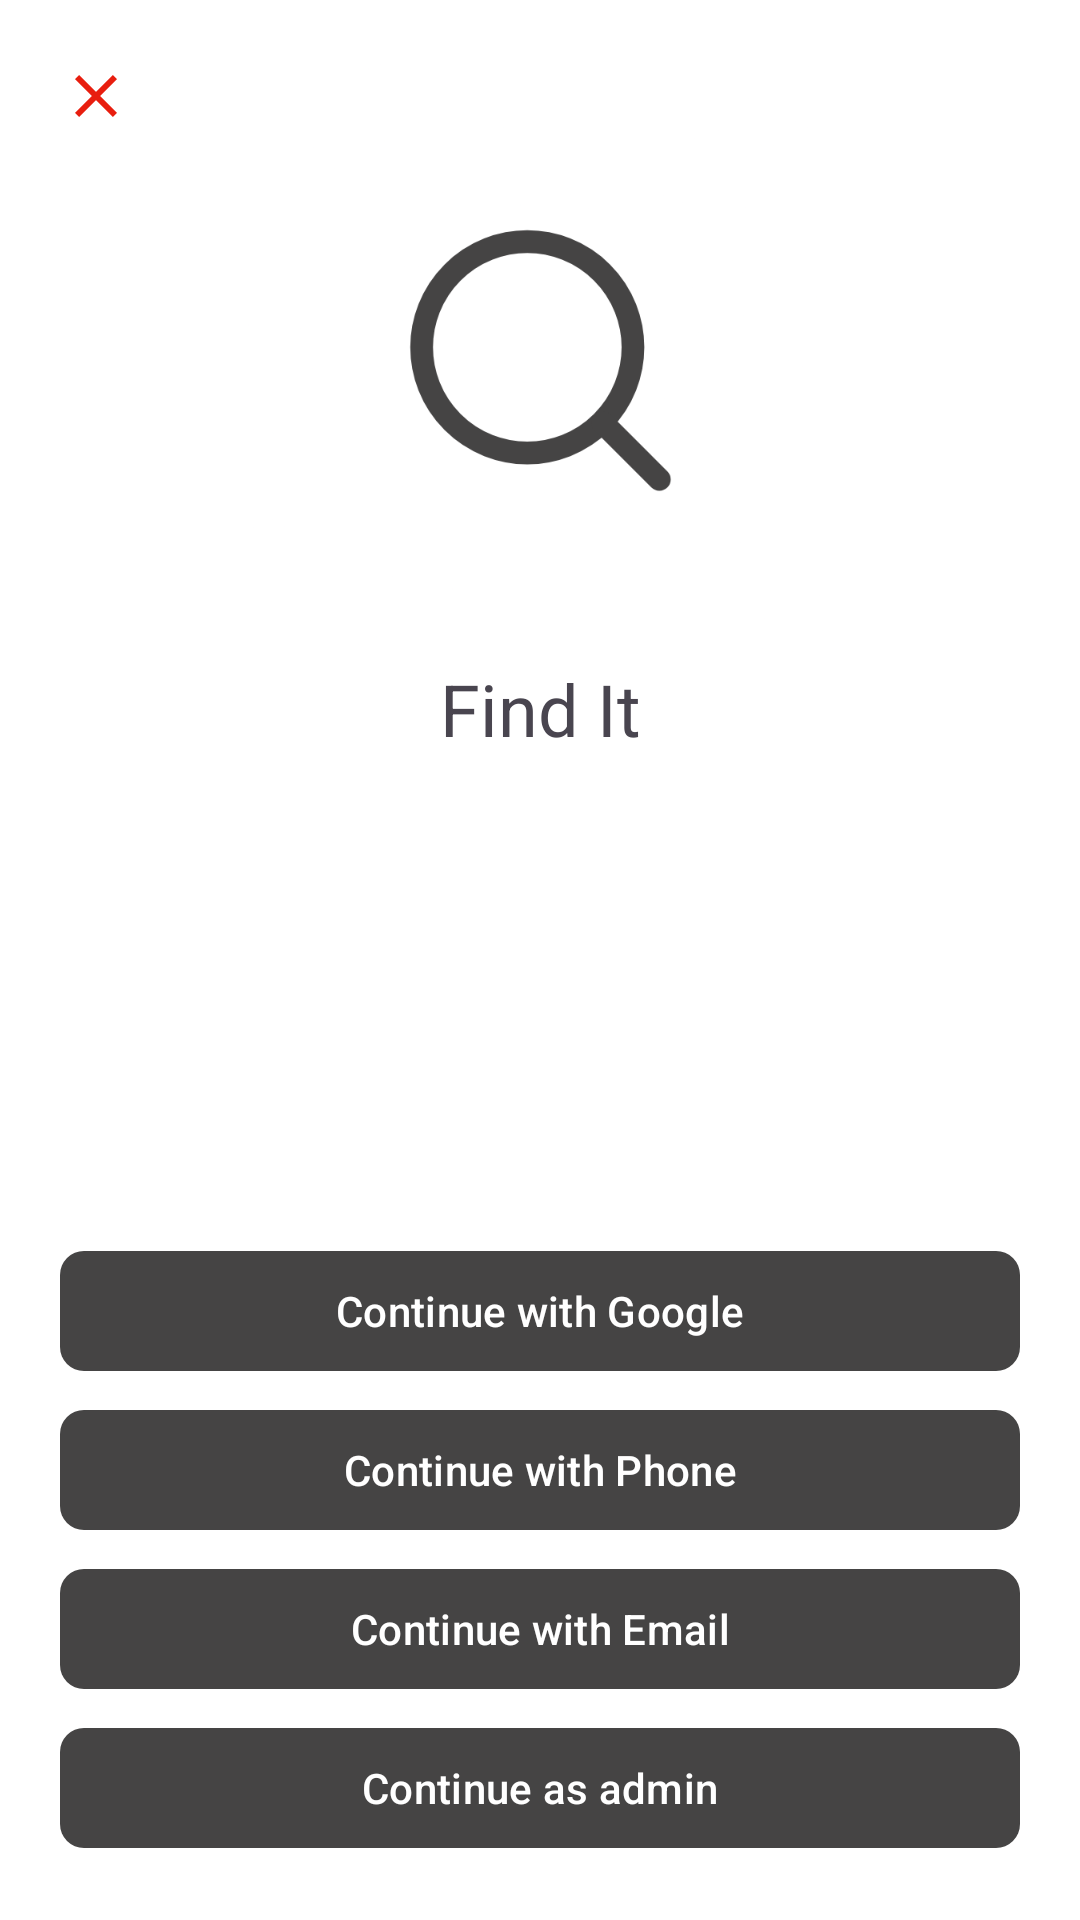

Screen size 1080 × 1920. Icon name, then its center in pixels as (x=x, y=y):
close: (x=96, y=96)
